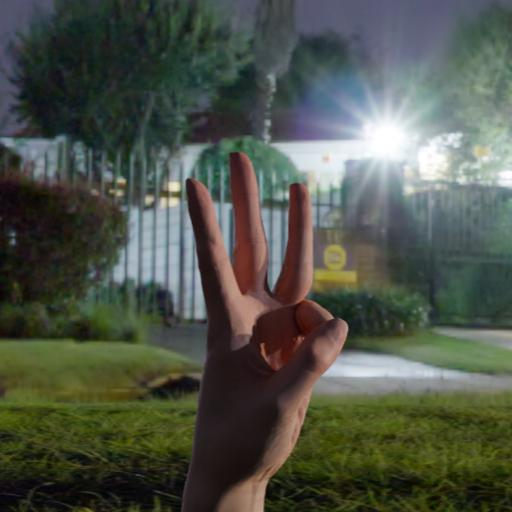W: (179, 148, 355, 484)
